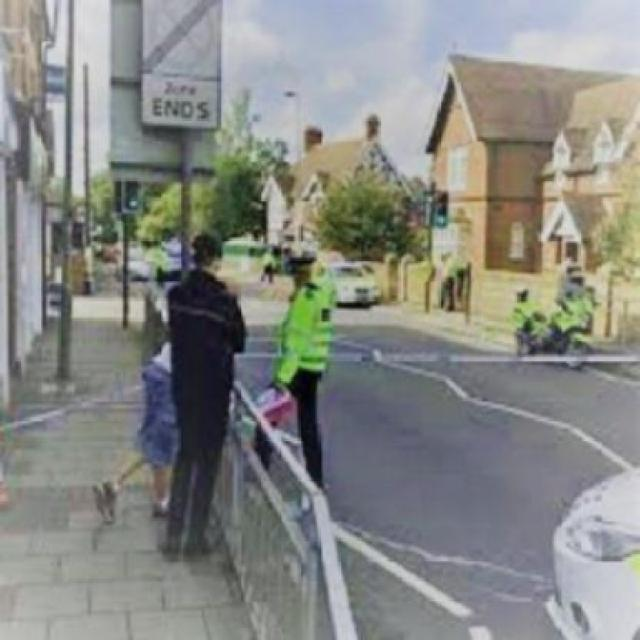Person: (159, 228, 246, 568), (271, 246, 335, 480)
